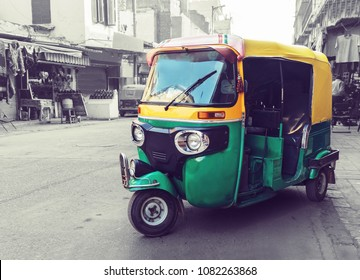threewheel: (118, 33, 340, 237)
